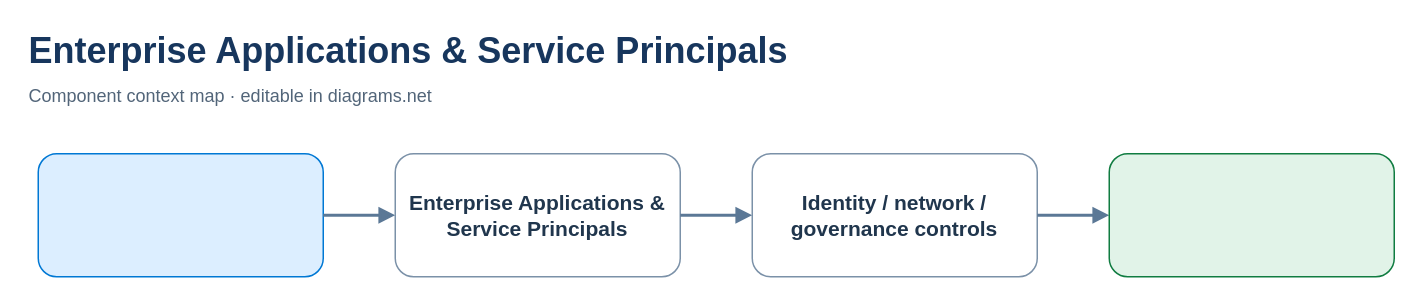
The diagram is 1421 pixels wide and 303 high, and some of its shapes have lost their labels. The centre of each missing label's shape, as x and y in pixels:
"B · Identity & Access Management" belongs at point 180,214.
"Monitoring / resilience / operations" belongs at point 1251,214.
